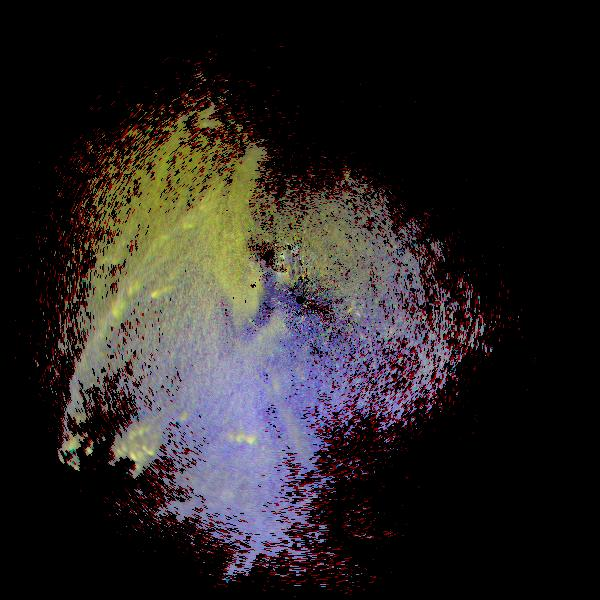roost: (343, 299, 367, 323)
